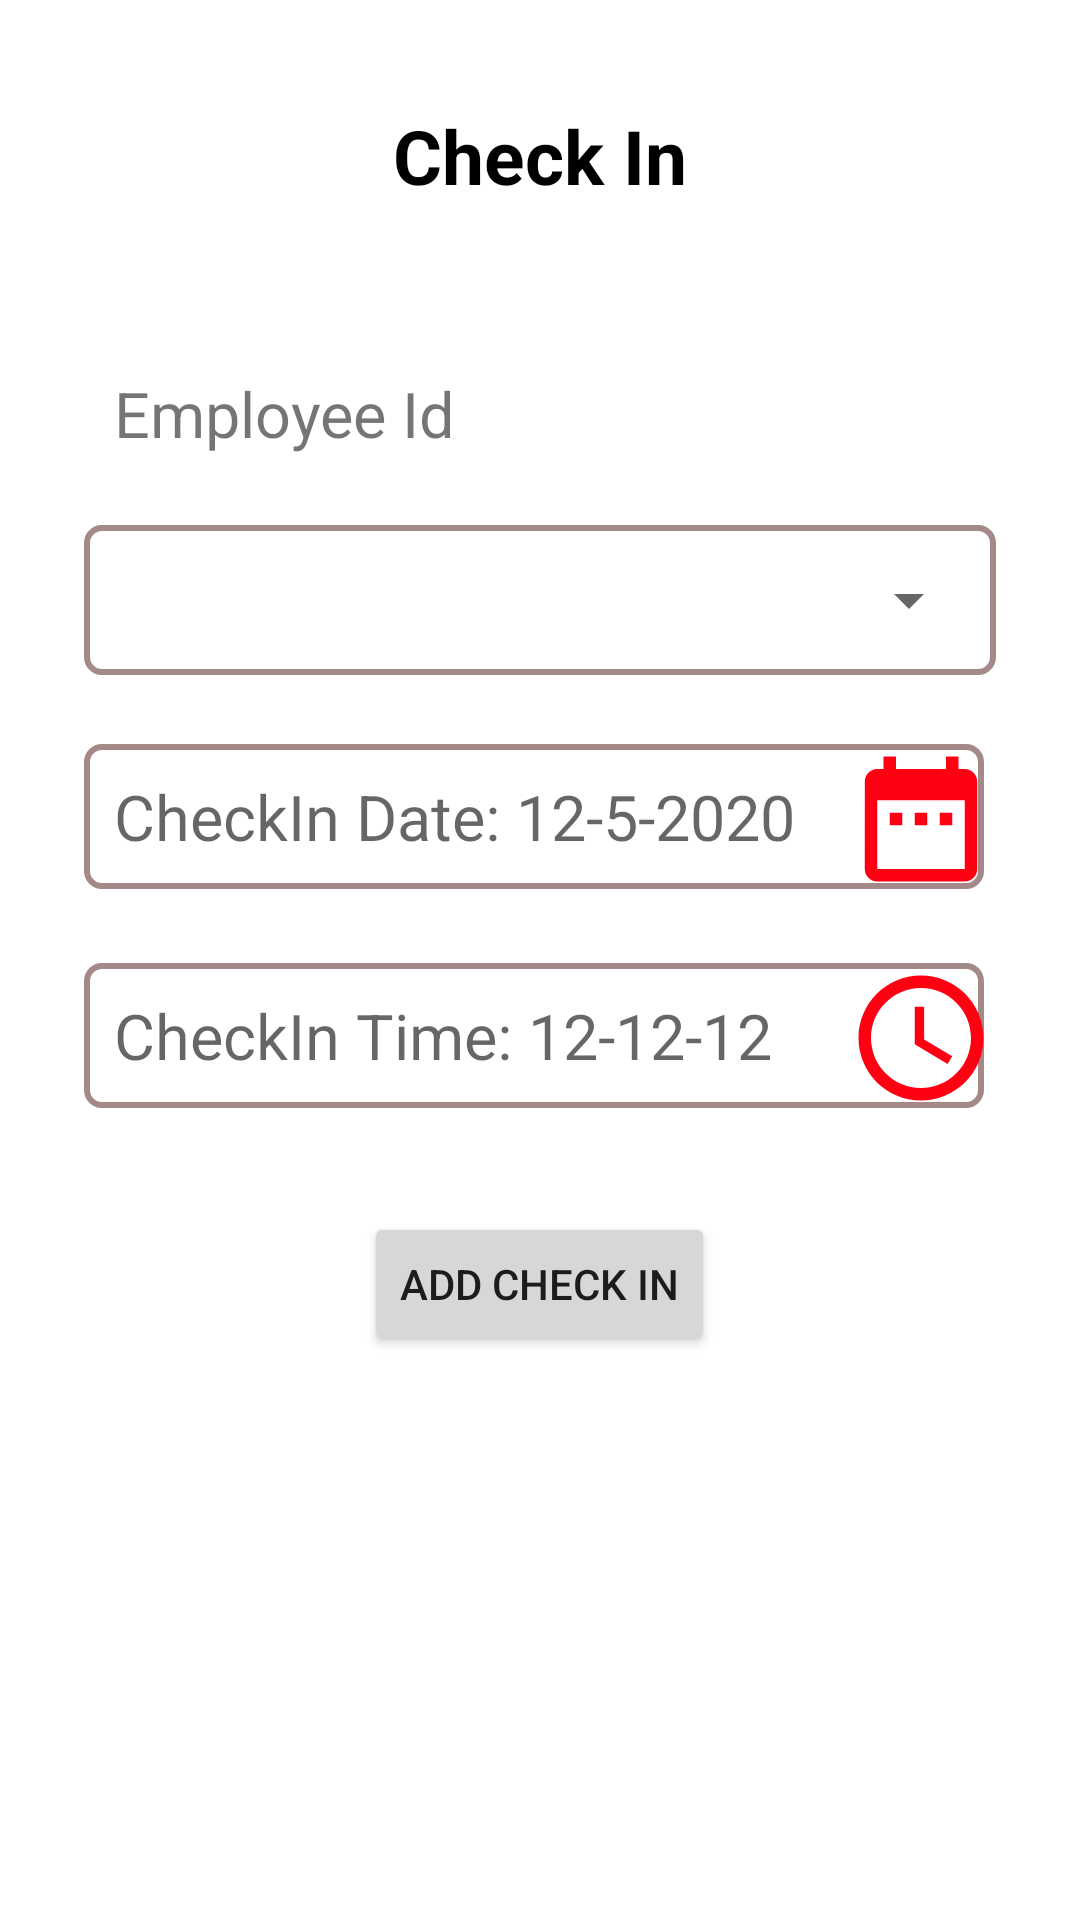

Icon click points for this 1080px×1920px phone screenshot, format (x,y):
access time: (915,1035)
date range: (915,816)
